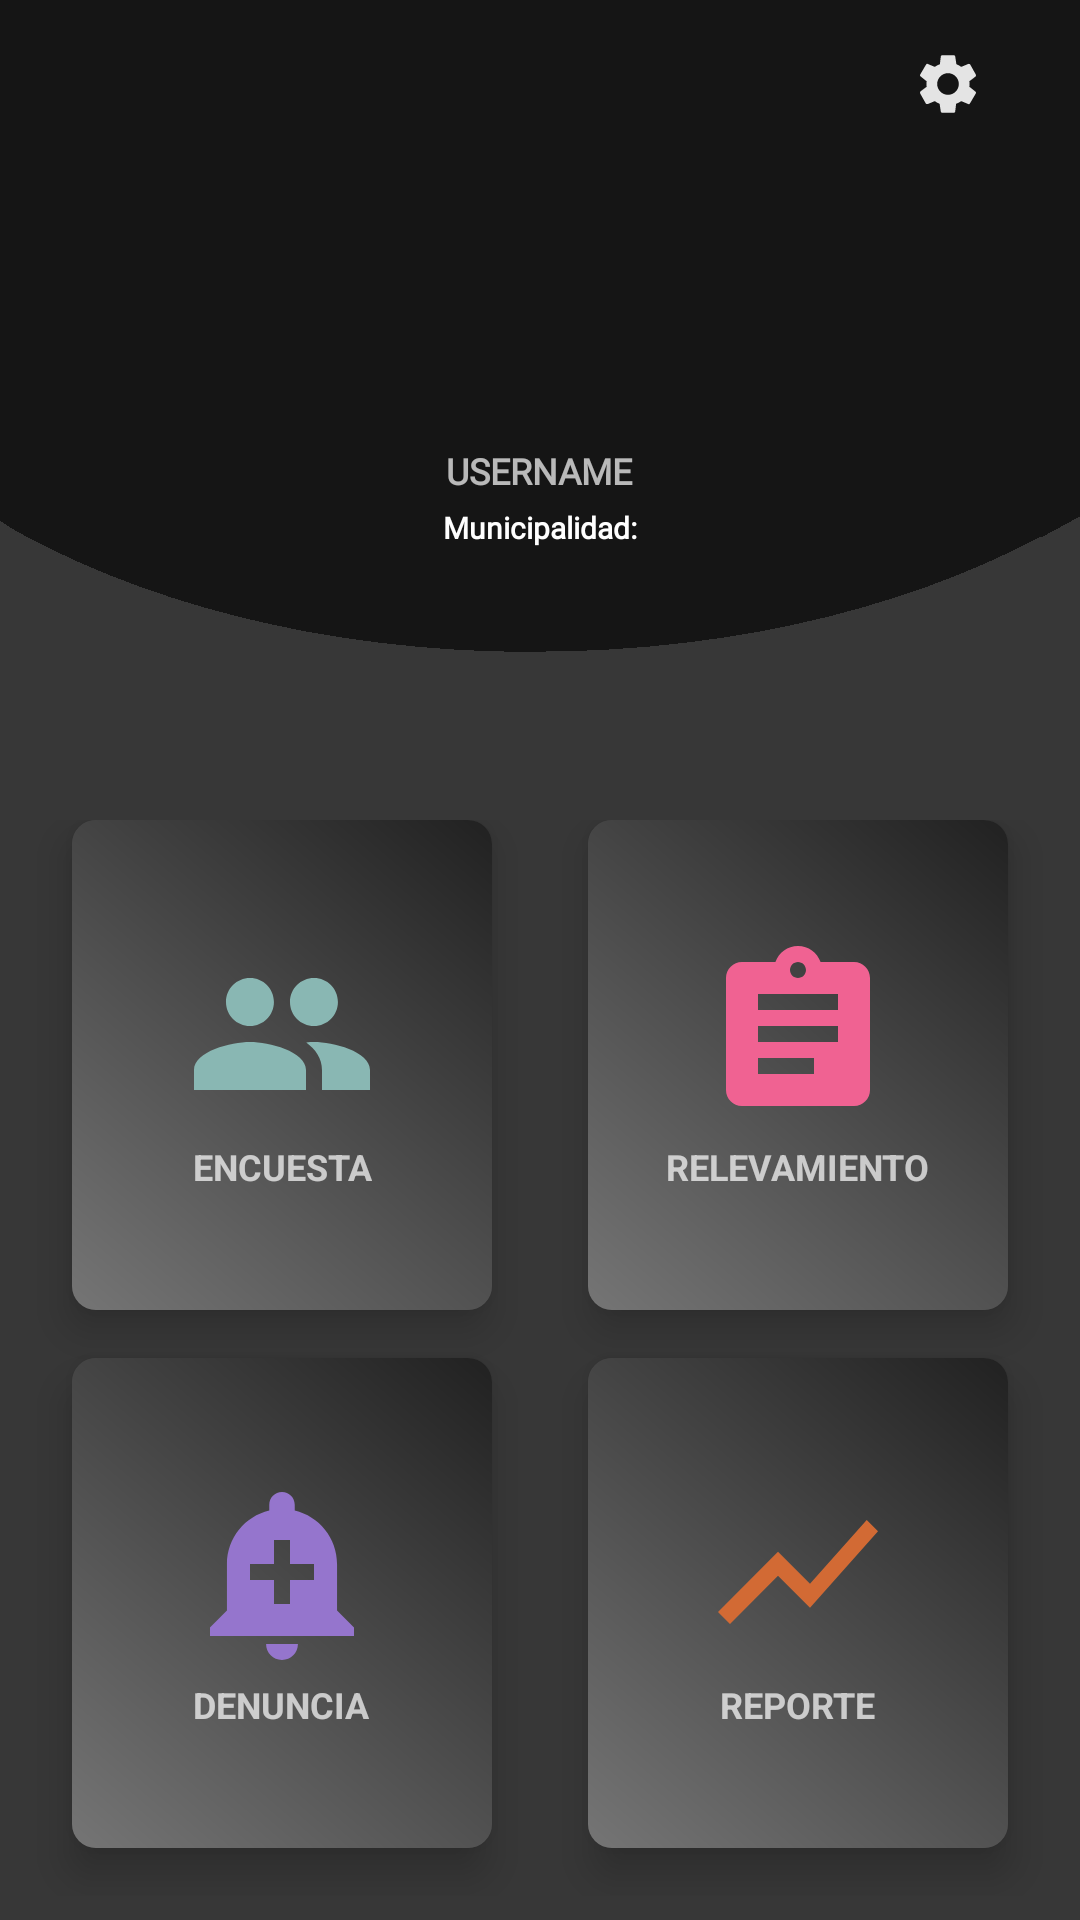

Screen size 1080*1920. Icon name, then its box in pixels as [x1, y1, x2, y2]:
add alert: [186, 1476, 378, 1668]
assignment: [702, 946, 870, 1130]
people: [186, 938, 378, 1130]
settings: [920, 55, 976, 113]
show chart: [702, 1476, 894, 1668]
